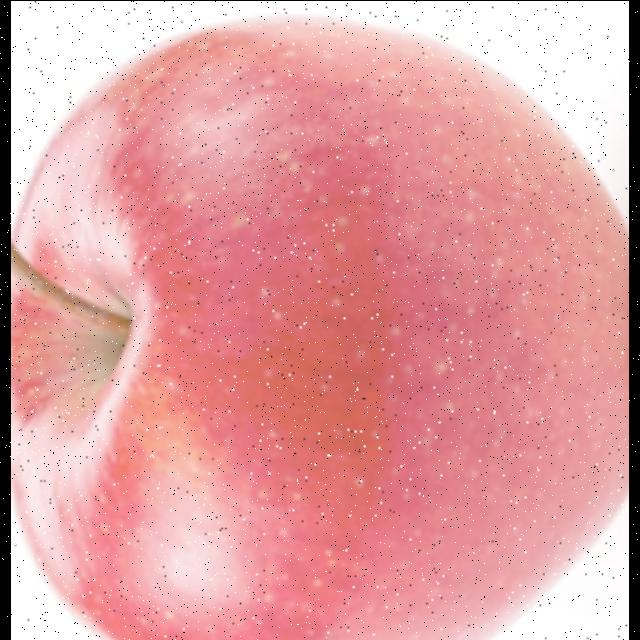Apel Segar: (11, 2, 629, 640)
